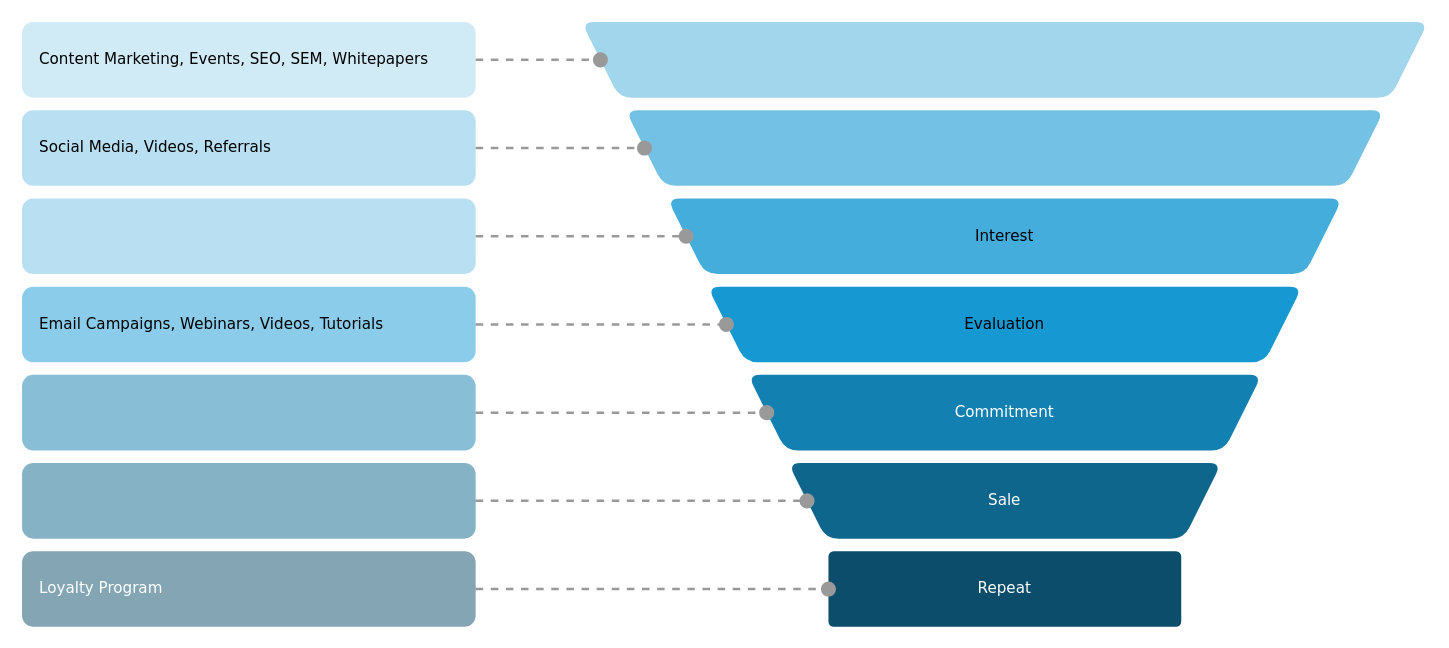
This 1449x648 diagram has some shape labels left out. Here are the shapes that lost their labels. From the top down, the centre of each, then its label:
At (x=1004, y=59): "Marketing Campaigns".
At (x=1004, y=147): "Awareness".
At (x=248, y=235): "Content Marketing, Case Studies, Drip Campaigns".
At (x=248, y=412): "Demonstrations, Trials".
At (x=248, y=500): "Client Success Team".
